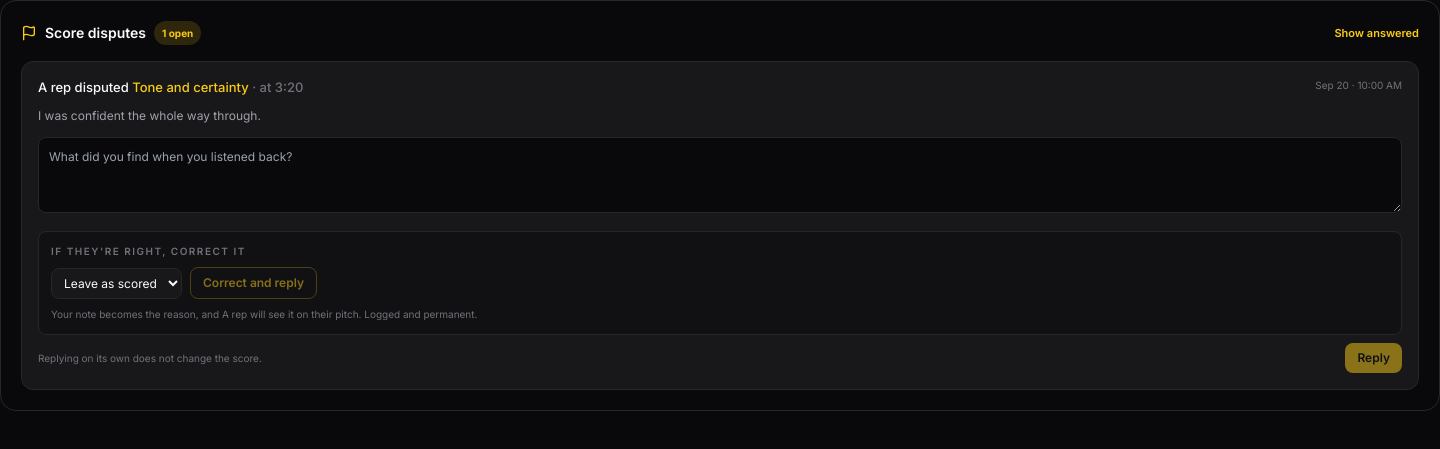
Test: correcting the score from the queue › does not reply at all when the correction failed
The width and height of the screenshot is (1440, 449).
Expected: the text "A rep disputed Tone and certainty · at 3:20" is shown, [38, 78, 303, 98]
Type "ok" into the text box named "Reply to this dispute" at (720, 175), box [38, 137, 1402, 213]
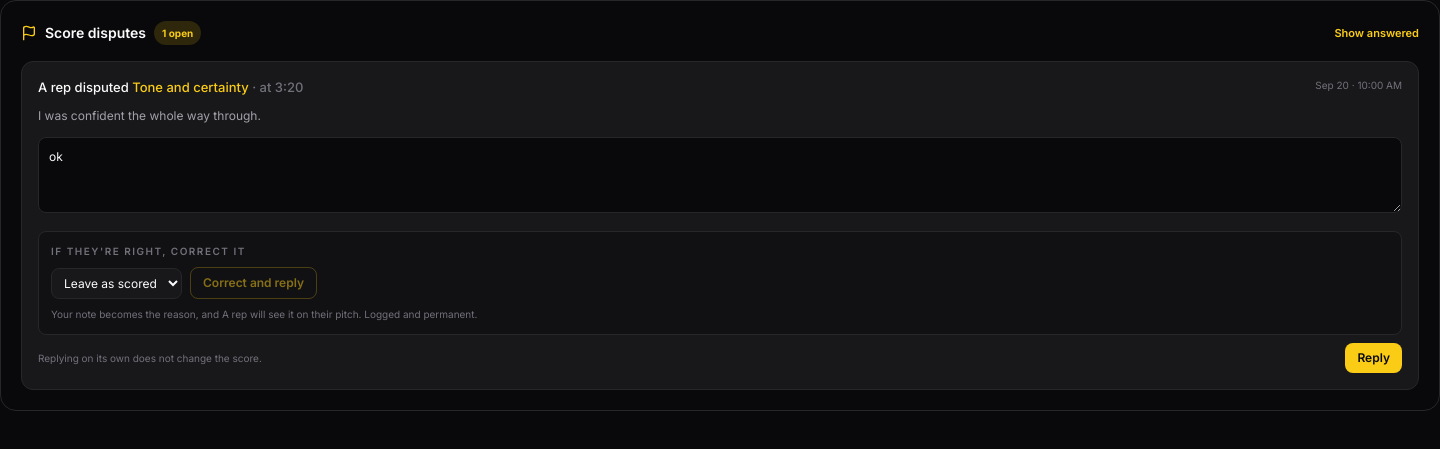
Select "Hit" in the dropdown labelled "If they're right, correct it" at (116, 283), box [51, 268, 182, 298]
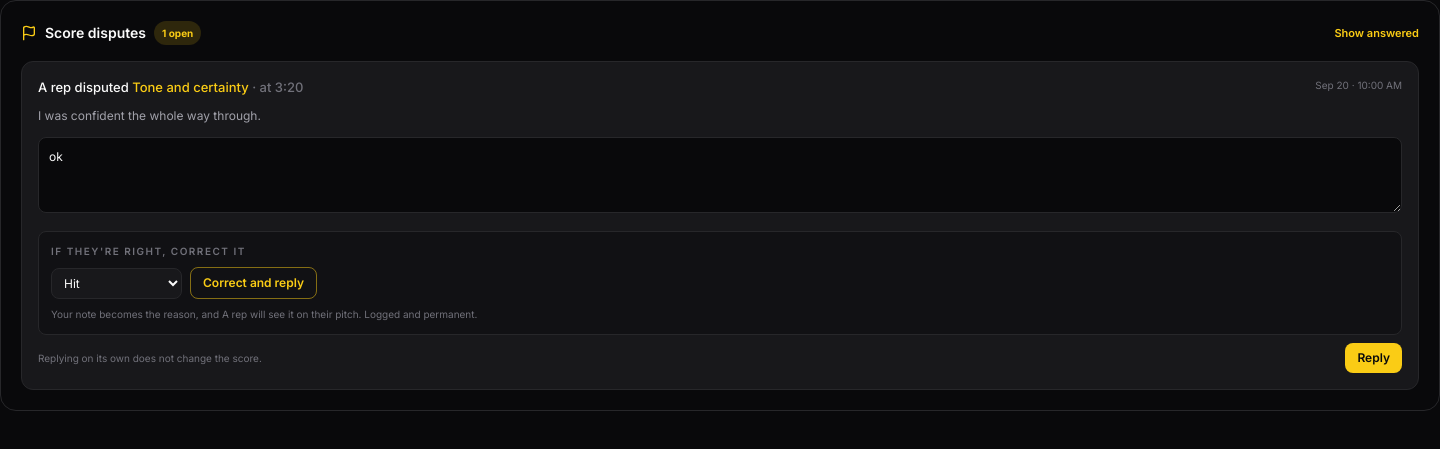
Click the button "Correct and reply" at (254, 283), box [190, 267, 317, 299]
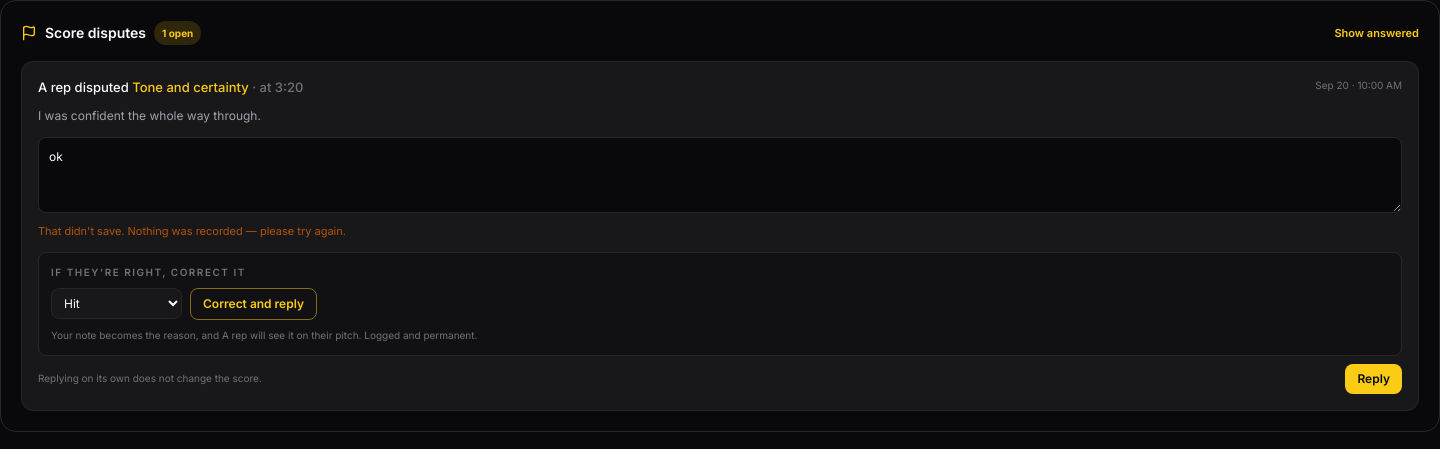
Expected: the text "That didn't save. Nothing was recorded — please try again." is shown, [38, 224, 346, 238]
